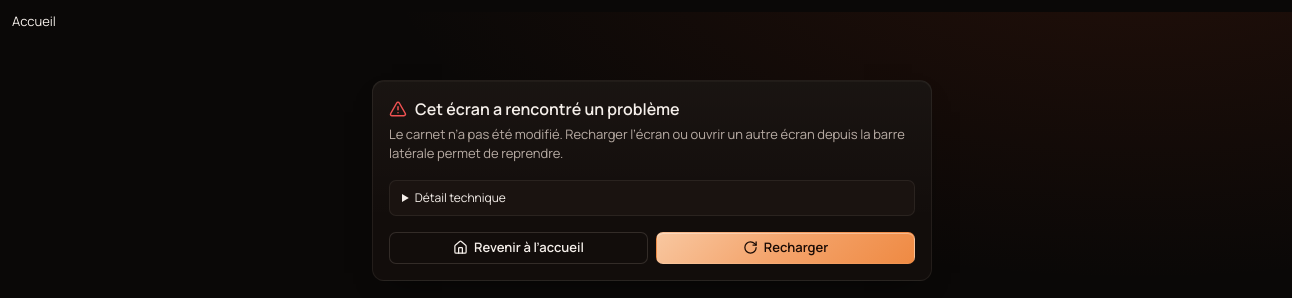
Test: route errors › replaces a failed screen only, the frame and its links stay
This screenshot has width=1292, height=298.
expect the heading "Cet écran a rencontré un problème" is shown: met, box [389,98,680,120]
expect the link "Accueil" is shown: met, box [12,12,56,30]
Click the button "Revenir à l’accueil".
click(518, 248)  # box [389,232,648,264]
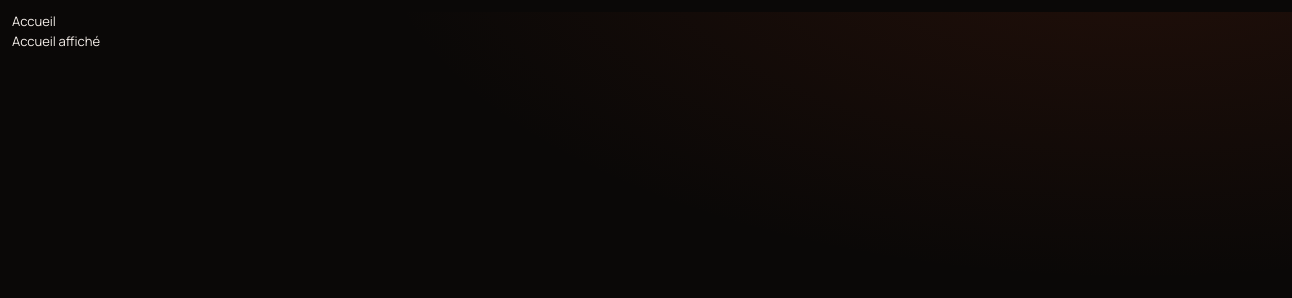
expect the text "Accueil affiché" is shown: met, box [12,32,100,50]
